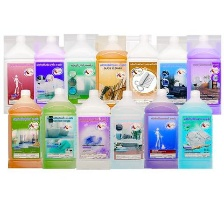cleaning_solution: (92, 32, 135, 116), (107, 89, 148, 173), (5, 88, 46, 171), (183, 33, 224, 116), (141, 87, 180, 173), (74, 87, 113, 173), (0, 33, 40, 116), (39, 86, 77, 173), (176, 89, 215, 173), (62, 32, 101, 115), (125, 32, 162, 114), (31, 34, 68, 114), (155, 34, 191, 116)
